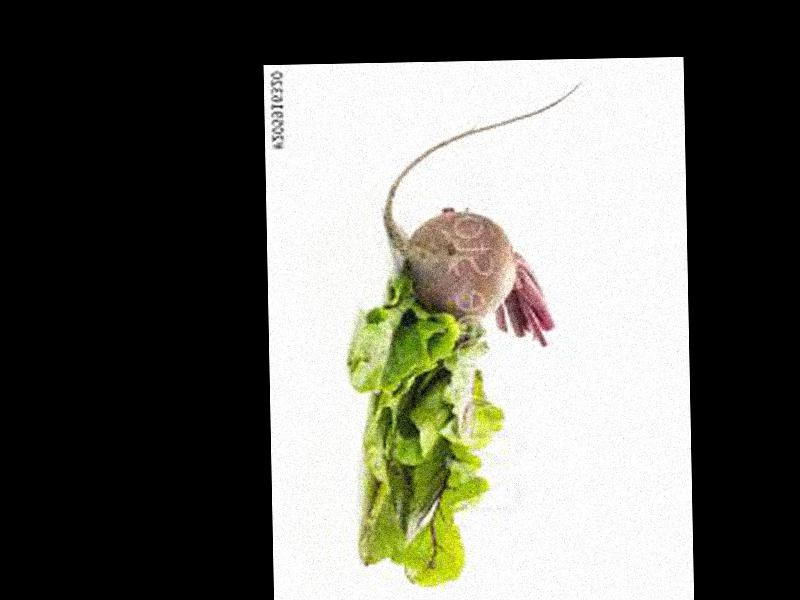Beet: (380, 76, 590, 353)
